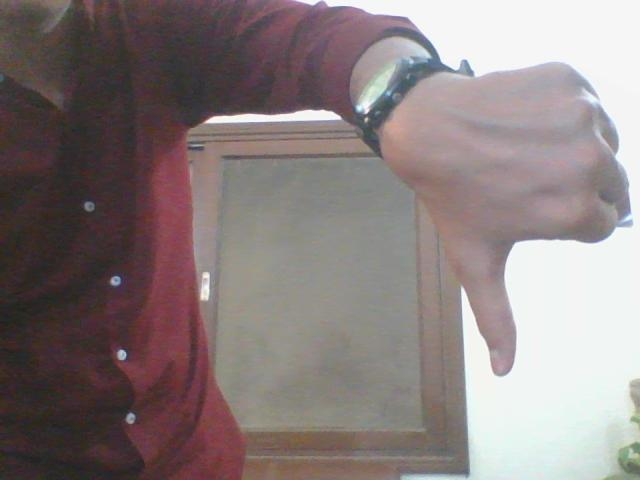thumbs-down: (455, 60, 630, 376)
